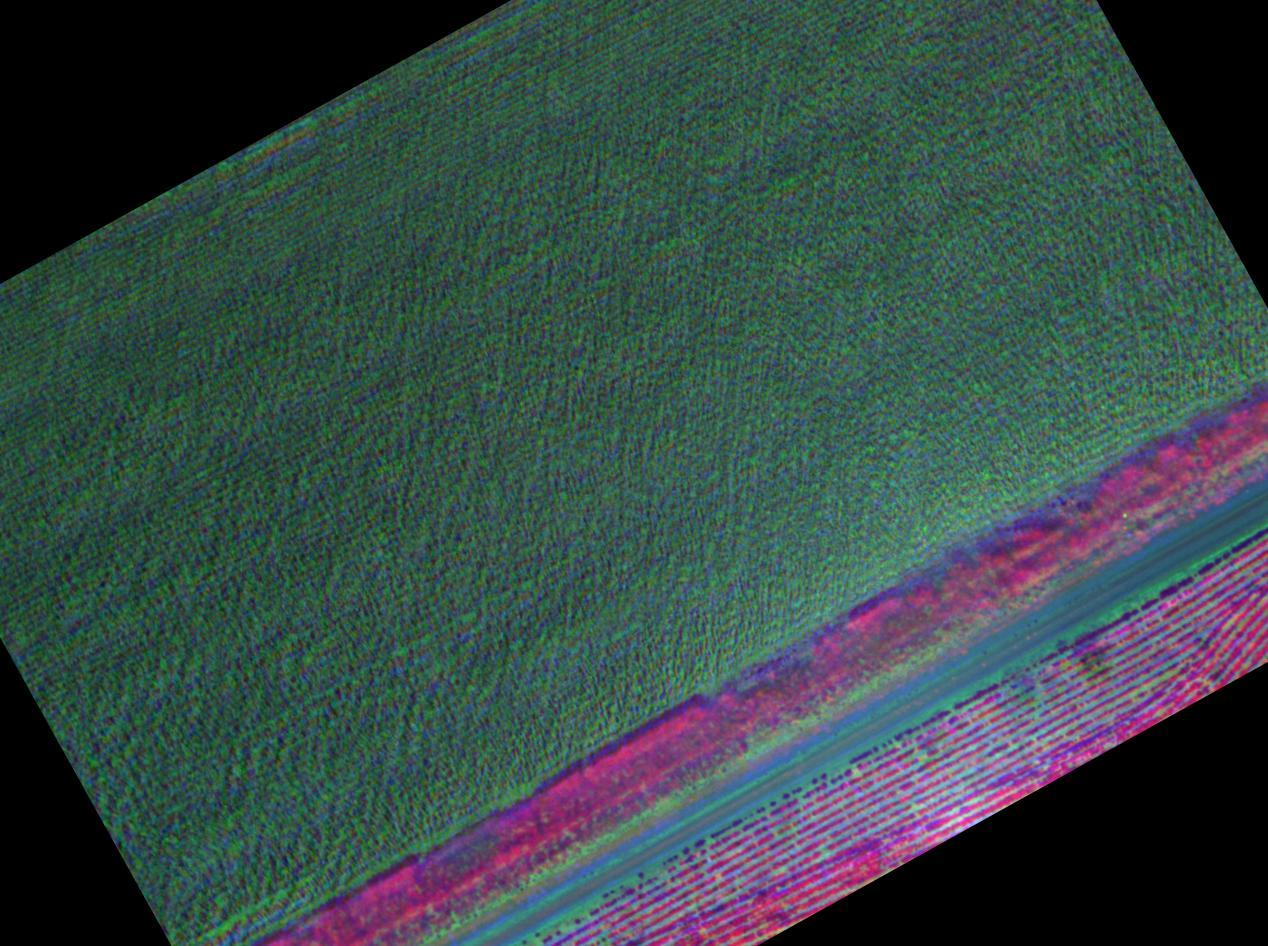dc: (1056, 614, 1139, 704)
